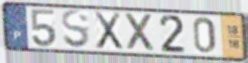0: (192, 16, 218, 56)
2: (159, 13, 188, 55)
5: (31, 8, 58, 49)
S: (60, 8, 92, 50)
X: (124, 11, 157, 53), (92, 11, 125, 52)
